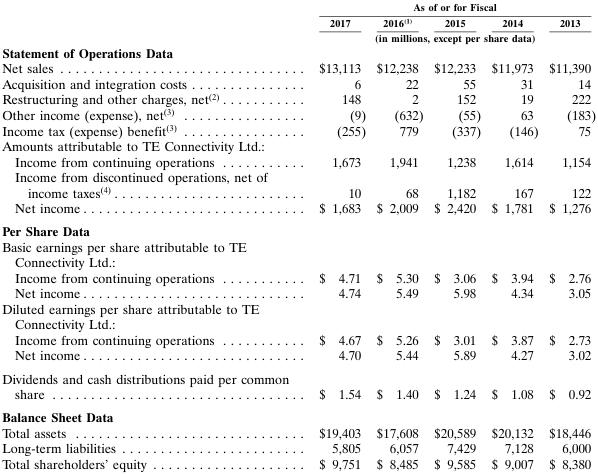table: (1, 0, 595, 471)
table column: (1, 0, 303, 471), (303, 0, 370, 471), (370, 0, 428, 471), (485, 0, 543, 471), (428, 0, 485, 471), (543, 0, 595, 471)
table column header: (1, 0, 595, 44)
table projected row header: (1, 238, 595, 269), (1, 300, 595, 331), (1, 219, 595, 238), (1, 405, 595, 424), (1, 44, 595, 60), (1, 137, 595, 153)
table row: (1, 366, 595, 405), (1, 168, 595, 199), (1, 238, 595, 269), (1, 300, 595, 331), (1, 199, 595, 219), (1, 346, 595, 366), (1, 219, 595, 238), (1, 405, 595, 424), (1, 14, 595, 30), (1, 44, 595, 60), (1, 75, 595, 91), (1, 106, 595, 122), (1, 137, 595, 153), (1, 284, 595, 300), (1, 424, 595, 440), (1, 455, 595, 471), (1, 60, 595, 75), (1, 91, 595, 106), (1, 122, 595, 137), (1, 153, 595, 168), (1, 269, 595, 284), (1, 331, 595, 346), (1, 440, 595, 455), (1, 0, 595, 14), (1, 30, 595, 44)
table spanning cell: (303, 0, 595, 14), (303, 30, 595, 44)
